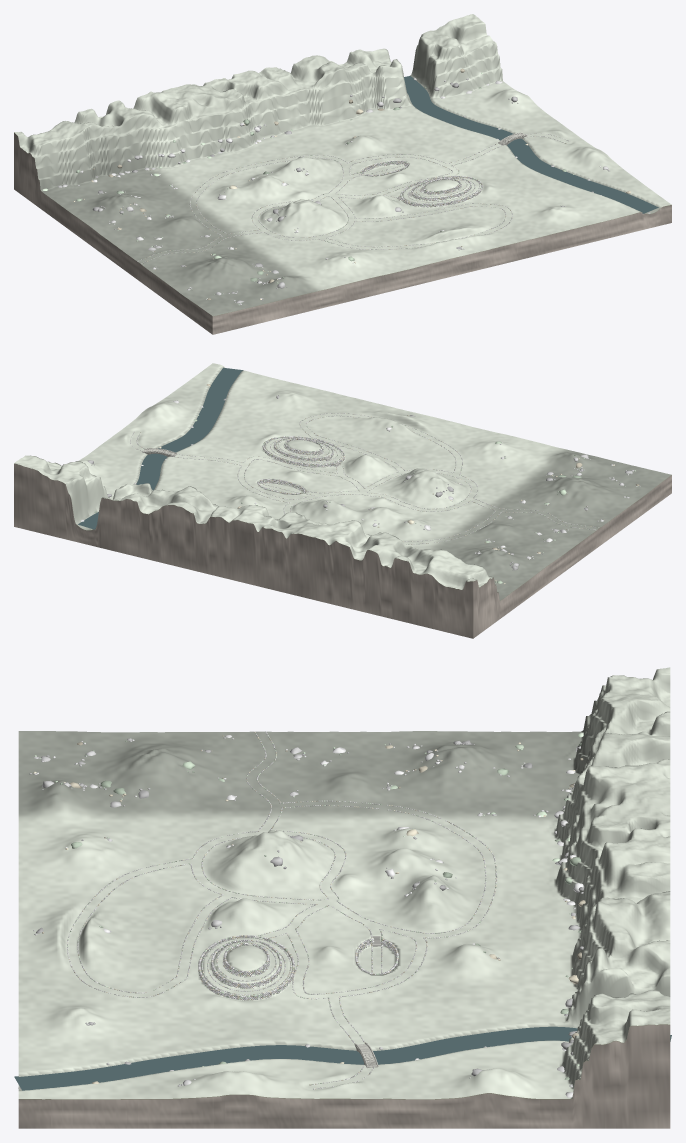
The model's file is terrain.glb.
The picture shows the model from 3 angles, top to bottom: view 1: azimuth 30°, elevation 25°; view 2: azimuth 150°, elevation 25°; view 3: azimuth 270°, elevation 25°; orthographic projection. The views are drawn at different scales.
Visible parts, largest first — view 1: Зелені пагорби; view 2: Зелені пагорби; view 3: Зелені пагорби.
Part boxes in pixels (x1,y1,x2,y2): Зелені пагорби: (14, 14, 671, 334); Зелені пагорби: (14, 363, 671, 638); Зелені пагорби: (14, 667, 671, 1128).
Size of the model in its own units: 320 by 43.61 by 242.
